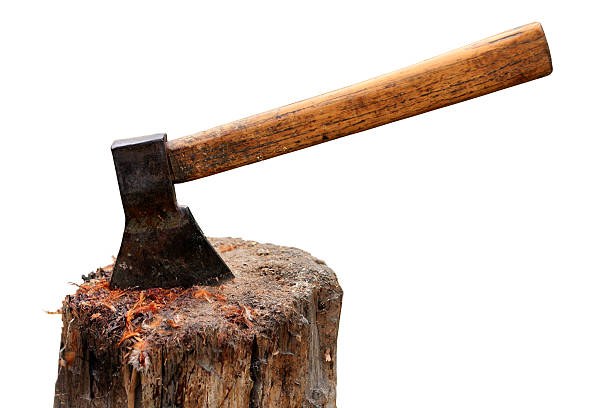sharp-edged-weapons: (106, 132, 236, 290)
